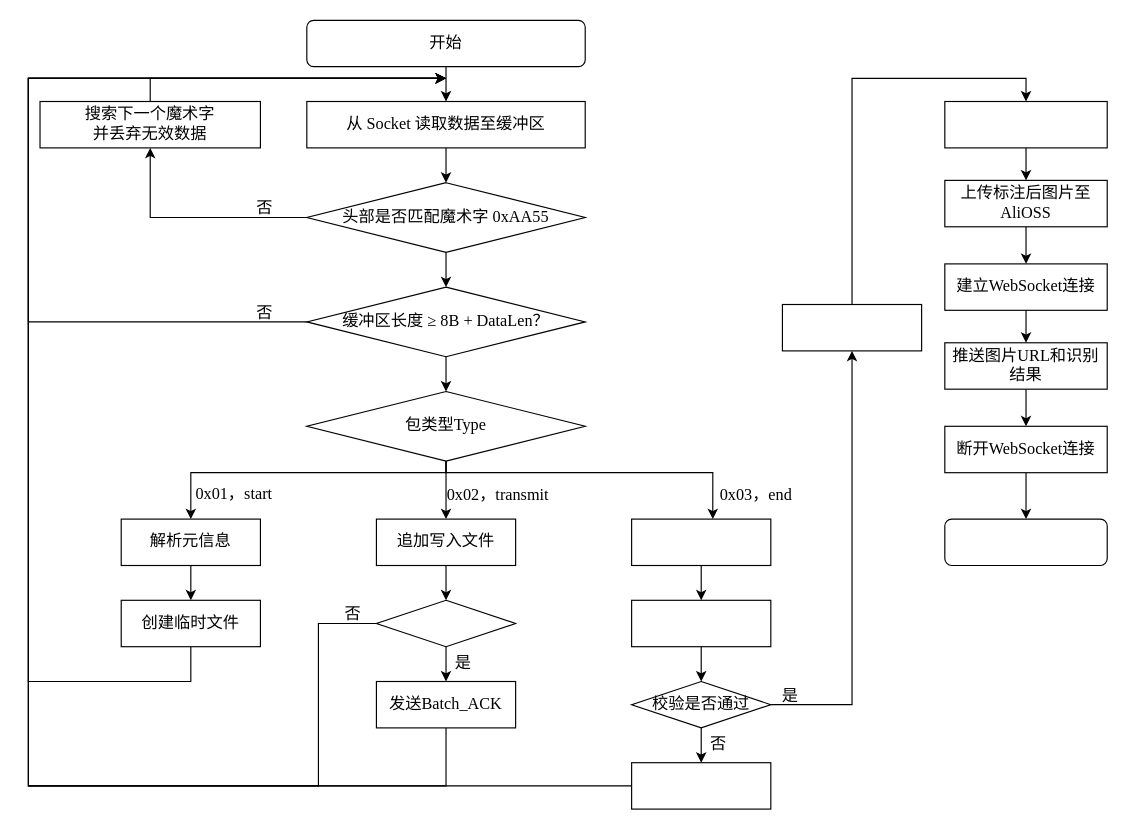
Image size: 1128x829. Some labels were removed from this diagram. Each missing label, with the centre of its shape:
"CRC校验" goes at point 700,623.
"seq%128==0？" goes at point 445,623.
"YOLO识别并标注" goes at point 1025,124.
"关闭文件" goes at point 700,542.
"删除文件" goes at point 700,785.
"结束 等待下一次TCP连接" goes at point 1025,542.
"重命名文件" goes at point 851,327.
